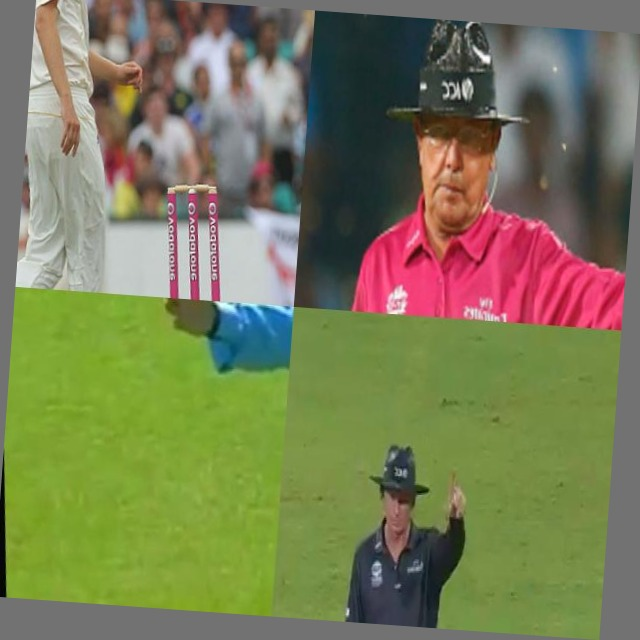No_Ball: (294, 11, 640, 330), (123, 296, 294, 616)
Out: (321, 423, 501, 632)
